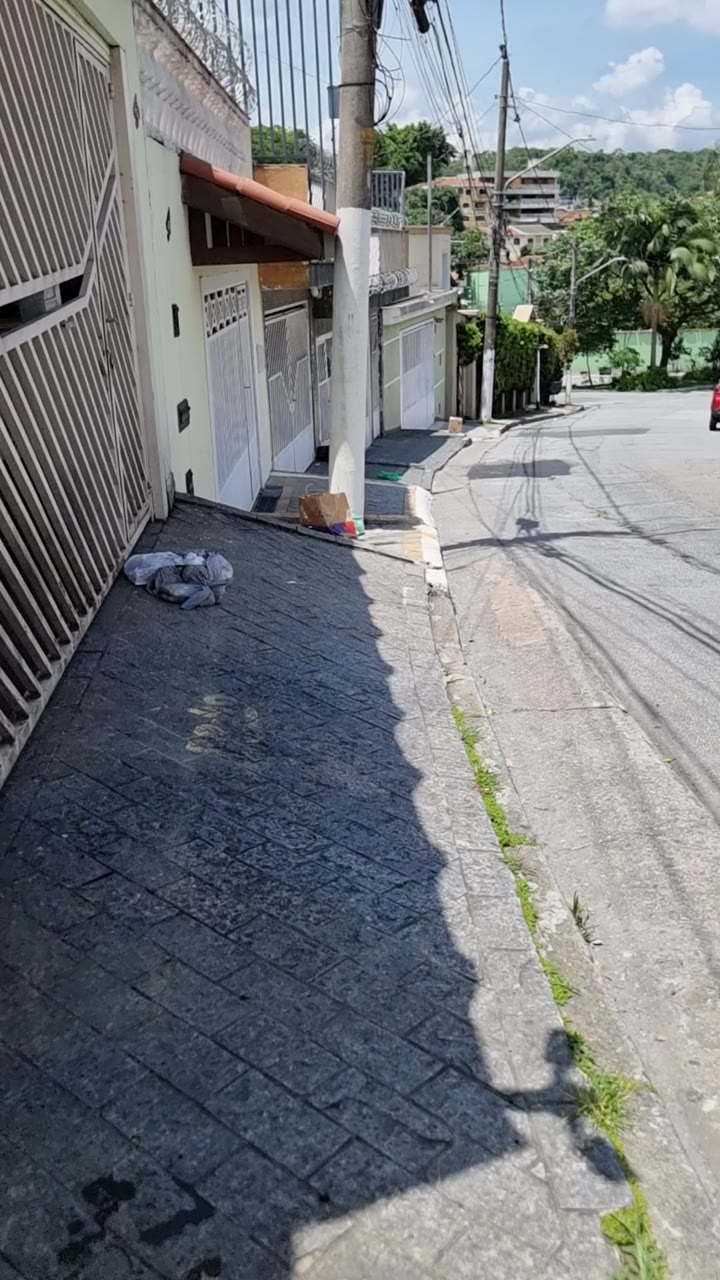obstaculo: (324, 192, 396, 538), (124, 551, 233, 609)
